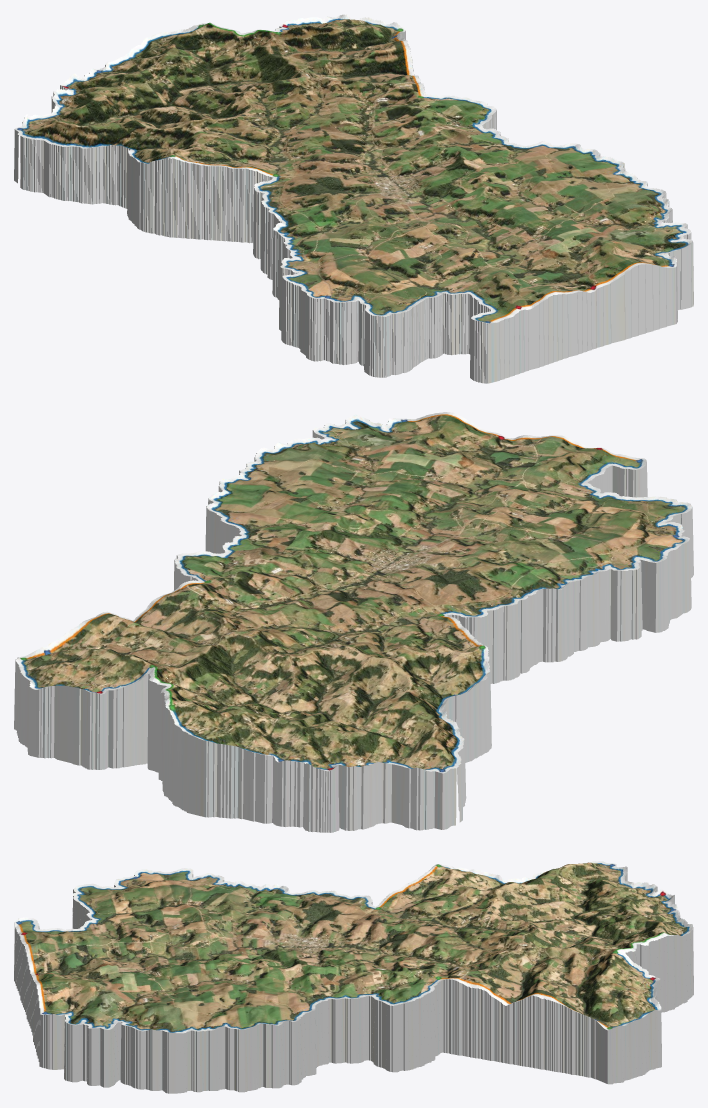
3 views of the same model, one above another, from view 1: azimuth 30°, elevation 25°; view 2: azimuth 150°, elevation 25°; view 3: azimuth 270°, elevation 25° (orthographic). The views are drawn at different scales.
Size of the model in its own units: 1 by 0.1983 by 1.55.
Materials: 1 (1 with a texture image).
